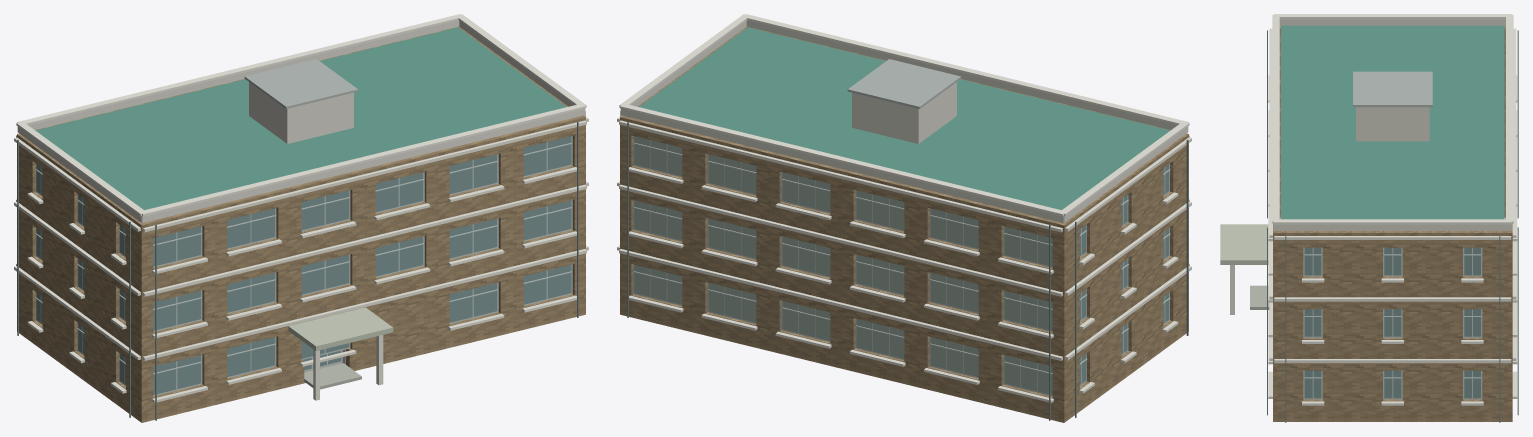
3 views of the same model, side by side, from view 1: azimuth 30°, elevation 25°; view 2: azimuth 150°, elevation 25°; view 3: azimuth 270°, elevation 25° (orthographic). The views are drawn at different scales.
Visible parts, largest first — view 1: northannex__tanbrick, northannex__roof, northannex__glass, northannex__trim, northannex__wall, northannex__frame, northannex__greyroof, northannex__entry, northannex__metal, northannex__threshold-1-14; view 2: northannex__tanbrick, northannex__roof, northannex__sideglass, northannex__trim, northannex__wall, northannex__frame, northannex__greyroof, northannex__metal, northannex__glass; view 3: northannex__tanbrick, northannex__roof, northannex__trim, northannex__wall, northannex__glass, northannex__greyroof, northannex__frame, northannex__entry, northannex__metal, northannex__threshold-1-14.
Part boxes in pixels (x1=…): northannex__tanbrick: x1=17, y1=26, x2=585, y2=422; northannex__roof: x1=35, y1=27, x2=566, y2=210; northannex__glass: x1=36, y1=136, x2=571, y2=394; northannex__trim: x1=14, y1=14, x2=588, y2=402; northannex__wall: x1=17, y1=20, x2=585, y2=364; northannex__frame: x1=35, y1=136, x2=572, y2=396; northannex__greyroof: x1=244, y1=59, x2=358, y2=108; northannex__entry: x1=288, y1=307, x2=393, y2=350; northannex__metal: x1=17, y1=111, x2=585, y2=420; northannex__threshold-1-14: x1=304, y1=363, x2=361, y2=389; northannex__tanbrick: x1=620, y1=26, x2=1188, y2=422; northannex__roof: x1=639, y1=27, x2=1170, y2=210; northannex__sideglass: x1=634, y1=136, x2=1052, y2=394; northannex__trim: x1=617, y1=14, x2=1191, y2=402; northannex__wall: x1=620, y1=20, x2=1188, y2=222; northannex__frame: x1=633, y1=136, x2=1170, y2=396; northannex__greyroof: x1=847, y1=59, x2=961, y2=108; northannex__metal: x1=620, y1=111, x2=1188, y2=420; northannex__glass: x1=1080, y1=164, x2=1169, y2=384; northannex__tanbrick: x1=1273, y1=25, x2=1512, y2=421; northannex__roof: x1=1281, y1=25, x2=1504, y2=219; northannex__trim: x1=1230, y1=14, x2=1517, y2=405; northannex__wall: x1=1273, y1=19, x2=1512, y2=230; northannex__glass: x1=1304, y1=247, x2=1480, y2=398; northannex__greyroof: x1=1353, y1=71, x2=1432, y2=107; northannex__frame: x1=1303, y1=247, x2=1482, y2=399; northannex__entry: x1=1220, y1=224, x2=1268, y2=264; northannex__metal: x1=1267, y1=30, x2=1518, y2=422; northannex__threshold-1-14: x1=1250, y1=285, x2=1269, y2=309.
Bounding box in the file's own units: 25.97 × 13.08 × 15.39.
Materials: 12 (1 with a texture image).
